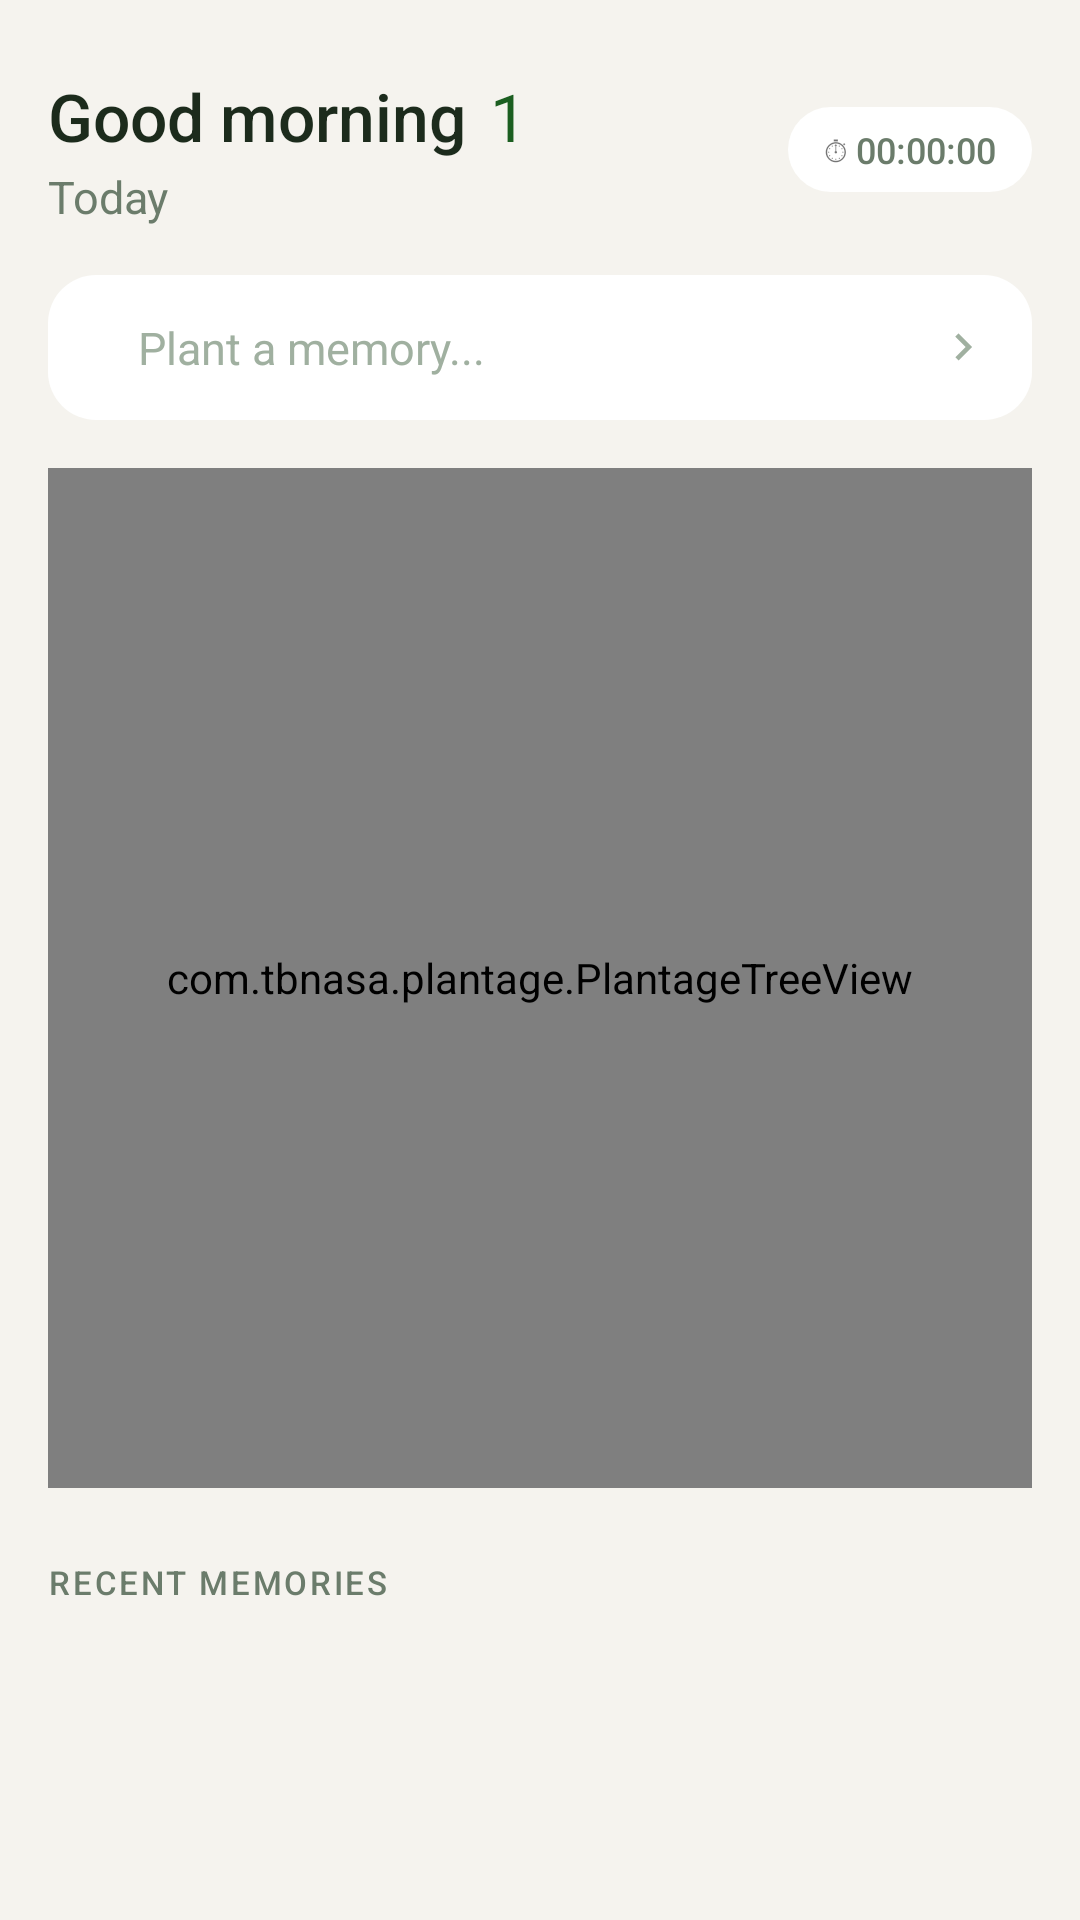

Icons on this 1080 × 1920 Android screen, each with its box as {"x1": x1, "y1": y1, "x2": x2, "y2": y2}:
chevron right: {"x1": 955, "y1": 333, "x2": 972, "y2": 360}
